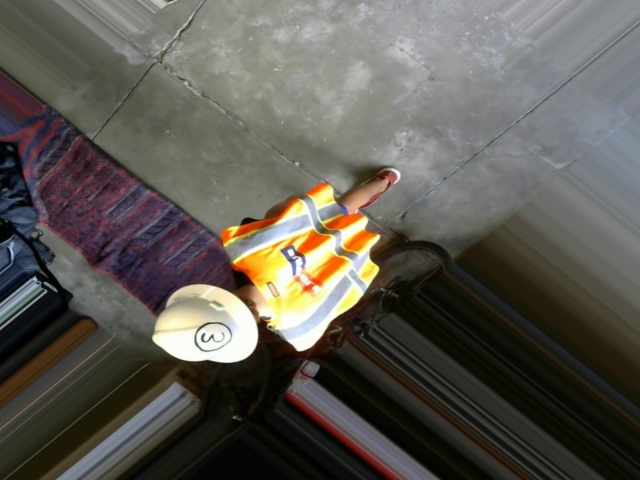three: (186, 315, 237, 355)
